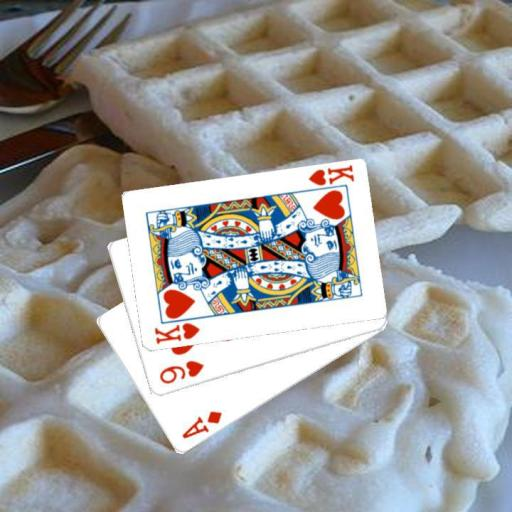9H: (156, 358, 206, 386)
AD: (179, 408, 224, 441)
KH: (151, 320, 201, 346), (305, 163, 356, 188)
